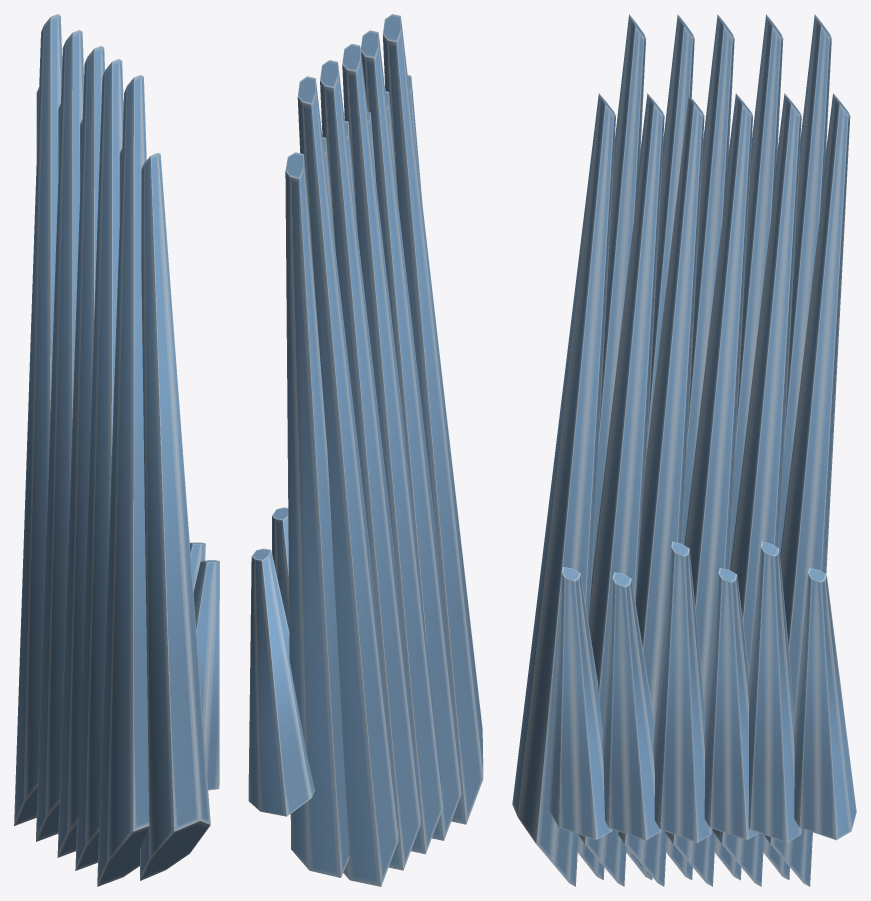
The model's file is wall_spike_010.fbx.
3 renders of one model, left to right at view 1: azimuth 30°, elevation 25°; view 2: azimuth 150°, elevation 25°; view 3: azimuth 270°, elevation 25°, orthographic. The views are drawn at different scales.
Visible parts, largest first — view 1: wall_spike_010; view 2: wall_spike_010; view 3: wall_spike_010.
Boxes of the visible parts, left/top/right/bottom form: wall_spike_010: left=14, top=14, right=219, bottom=886; wall_spike_010: left=248, top=14, right=483, bottom=886; wall_spike_010: left=512, top=14, right=856, bottom=886.
Bounding box in the file's own units: 0.5469 × 3.43 × 1.22.
Materials: 1 (1 with a texture image).
